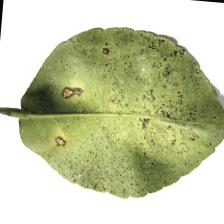canker: (142, 44, 198, 154)
